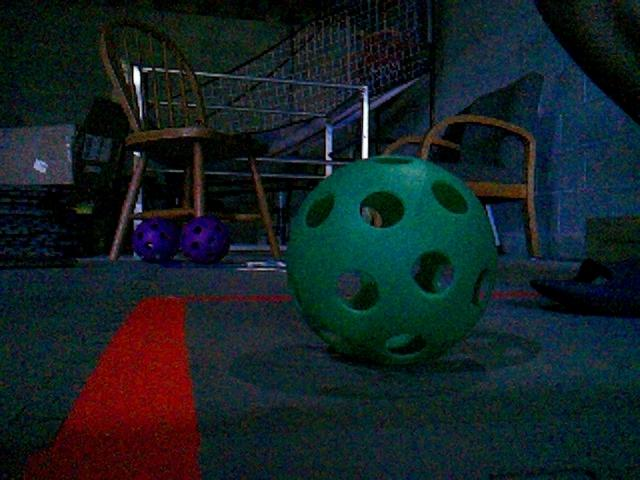Green: (283, 156, 499, 366)
Purple: (179, 214, 230, 264), (131, 217, 180, 263)
